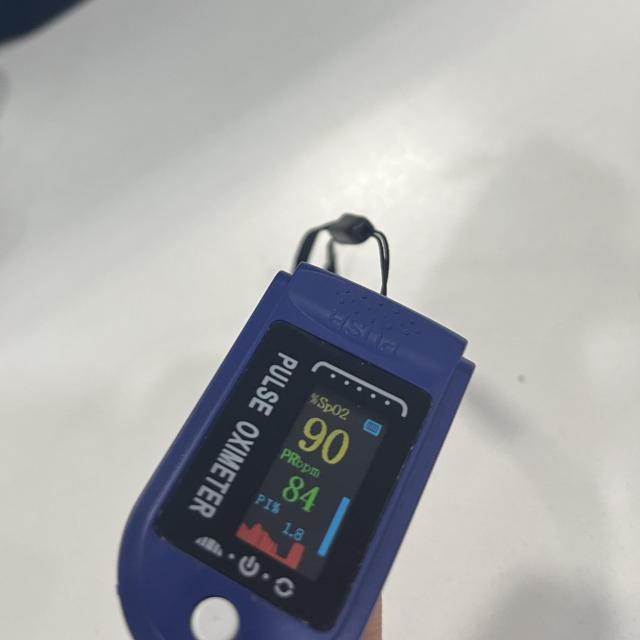spo2: (115, 264, 476, 640)
